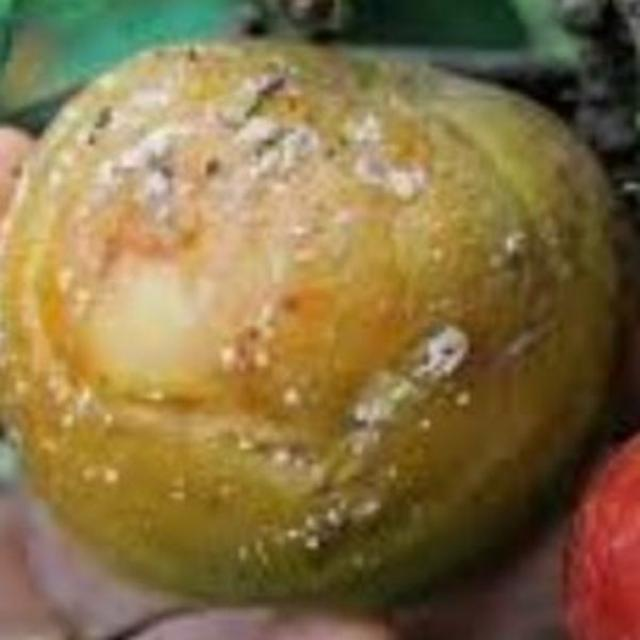Rotten Apple: (5, 18, 608, 628)
